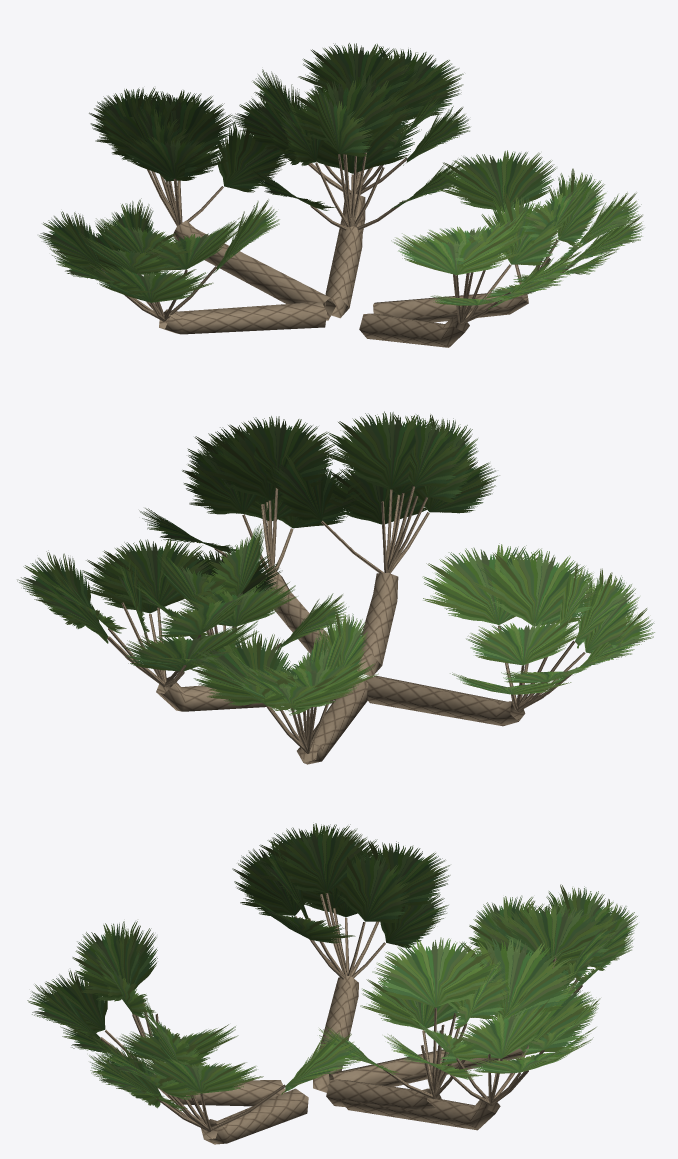
Rendered from veg_saw_palmetto_a_mobile.fbx.
3 renders of one model, top to bottom at view 1: azimuth 30°, elevation 25°; view 2: azimuth 150°, elevation 25°; view 3: azimuth 270°, elevation 25°, orthographic. The views are drawn at different scales.
Parts seen in each view (by area): view 1: veg_saw_palmetto_a_mobile_LOD0; view 2: veg_saw_palmetto_a_mobile_LOD0; view 3: veg_saw_palmetto_a_mobile_LOD0.
Boxes of the visible parts, left/top/right/bottom form: veg_saw_palmetto_a_mobile_LOD0: left=39, top=43, right=643, bottom=347; veg_saw_palmetto_a_mobile_LOD0: left=17, top=411, right=654, bottom=764; veg_saw_palmetto_a_mobile_LOD0: left=27, top=823, right=637, bottom=1144.
Size of what is drawn, in the model's own units: 4.03 by 1.33 by 4.01.
Materials: 2 (2 with a texture image).
